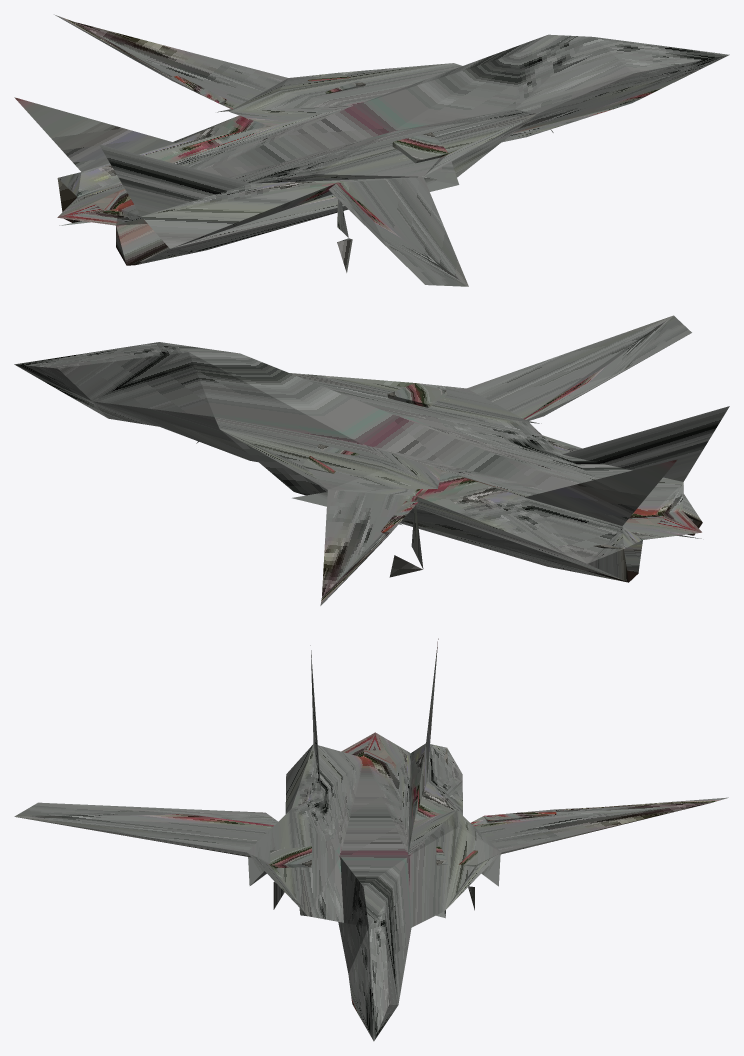
3 views of the same model, one above another, from view 1: azimuth 30°, elevation 25°; view 2: azimuth 150°, elevation 25°; view 3: azimuth 270°, elevation 25° (orthographic). The views are drawn at different scales.
Parts seen in each view (by area): view 1: Object_2; view 2: Object_2; view 3: Object_2.
Part boxes in pixels (x1,y1,x2,y2): Object_2: (14,14,729,286); Object_2: (14,315,729,605); Object_2: (14,638,728,1041).
Bounding box in the file's own units: 242 × 58.42 × 234.
Materials: 1 (1 with a texture image).
